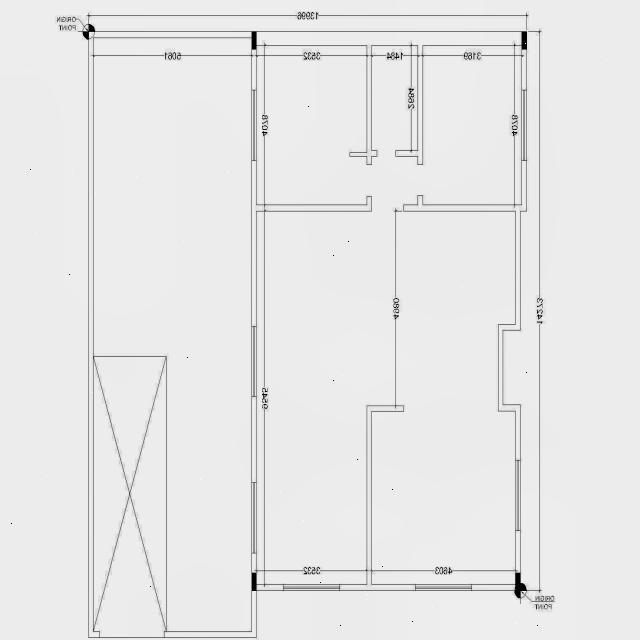Column: (515, 572, 521, 590), (521, 32, 527, 50), (252, 32, 256, 50), (252, 573, 256, 591)
Window: (250, 480, 258, 556), (514, 458, 522, 532), (250, 324, 258, 398), (520, 89, 528, 162), (250, 89, 258, 162), (282, 583, 340, 592), (414, 584, 472, 592)
